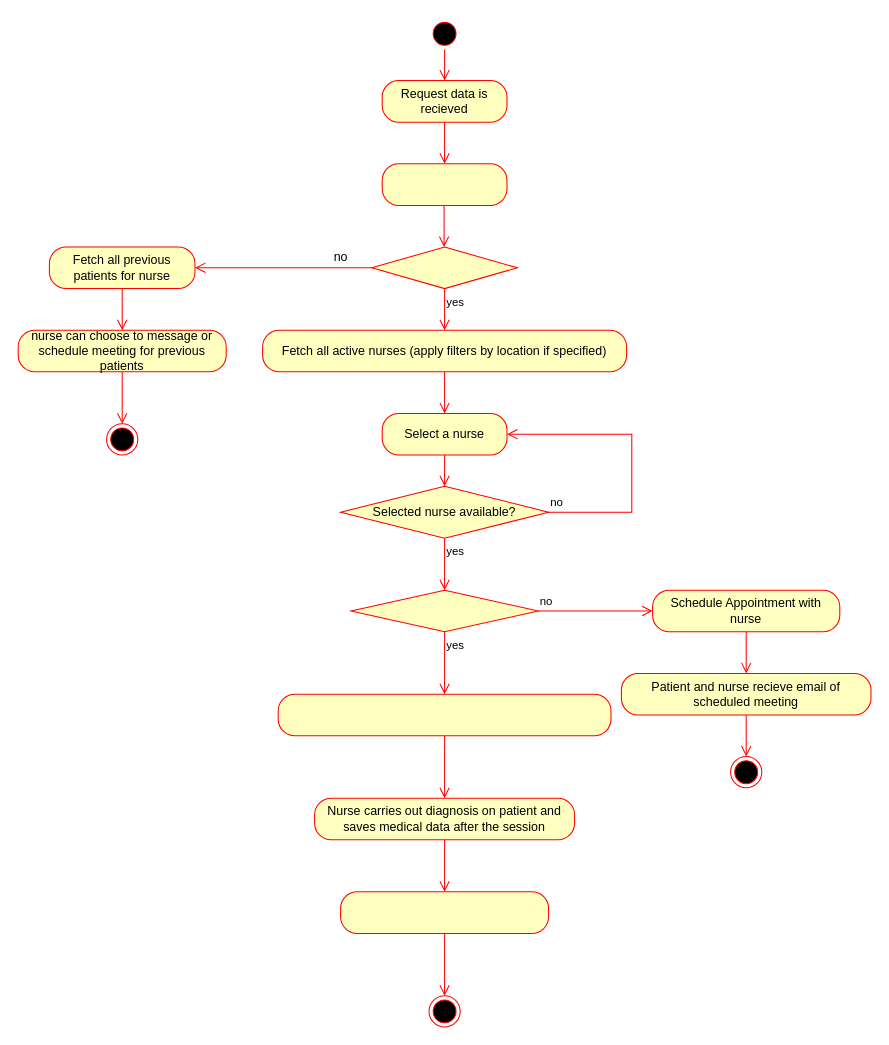
The diagram is 889 pixels wide and 1045 high, and some of its shapes have lost their labels. Each missing label, with the box of its shape:
Authenticate user: (381, 163, 507, 205)
Instant meeting?: (350, 589, 538, 632)
is user patient?: (371, 246, 517, 289)
Meeting url is generated and Patient and Nurse are added automatically.: (277, 693, 611, 736)
Patient can choose to rate or add nurse as favorite: (340, 891, 549, 933)
